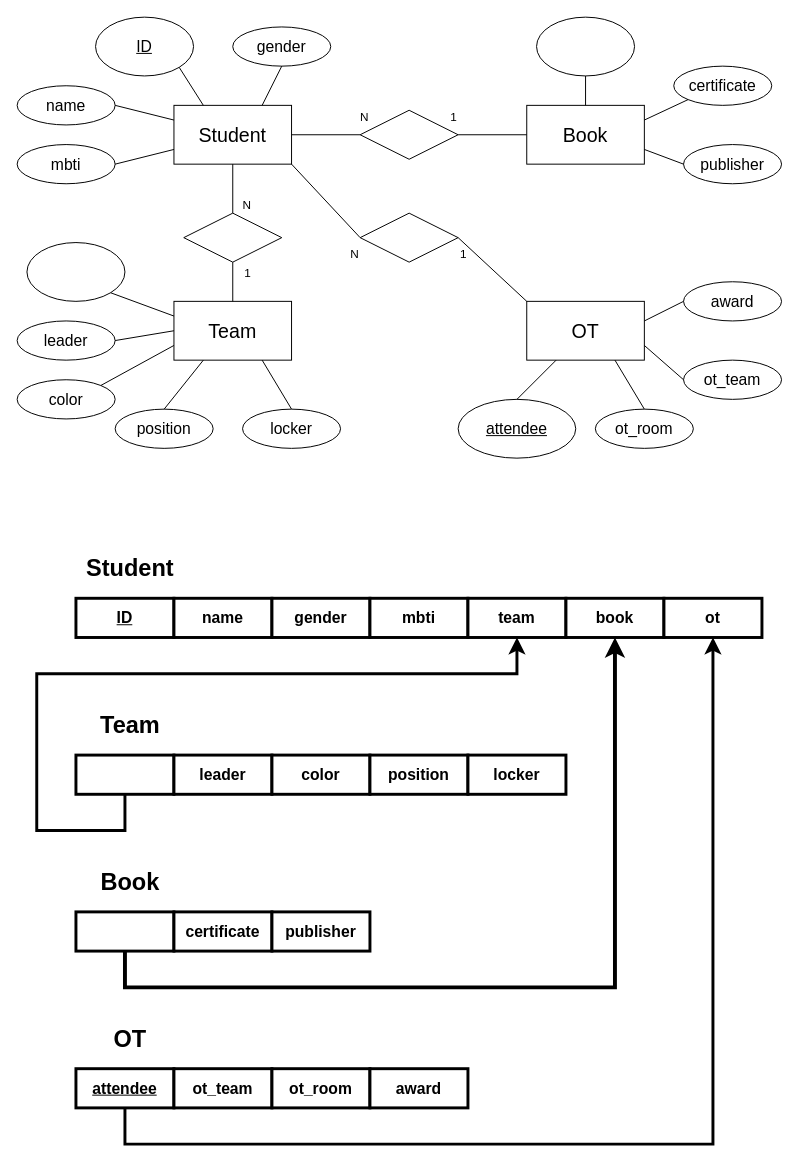
The diagram is 799 pixels wide and 1172 high, and some of its shapes have lost their labels. Each missing label, with the centre of its shape:
"attend" belongs at pixel 408 237.
"belong" belongs at pixel 232 237.
"book_name" belongs at pixel 585 46.
"book_title" belongs at pixel 124 931.
"request" belongs at pixel 408 134.
"team_id" belongs at pixel 124 774.
"team_name" belongs at pixel 75 271.
